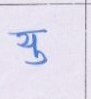u_matra: (26, 50, 49, 66)
